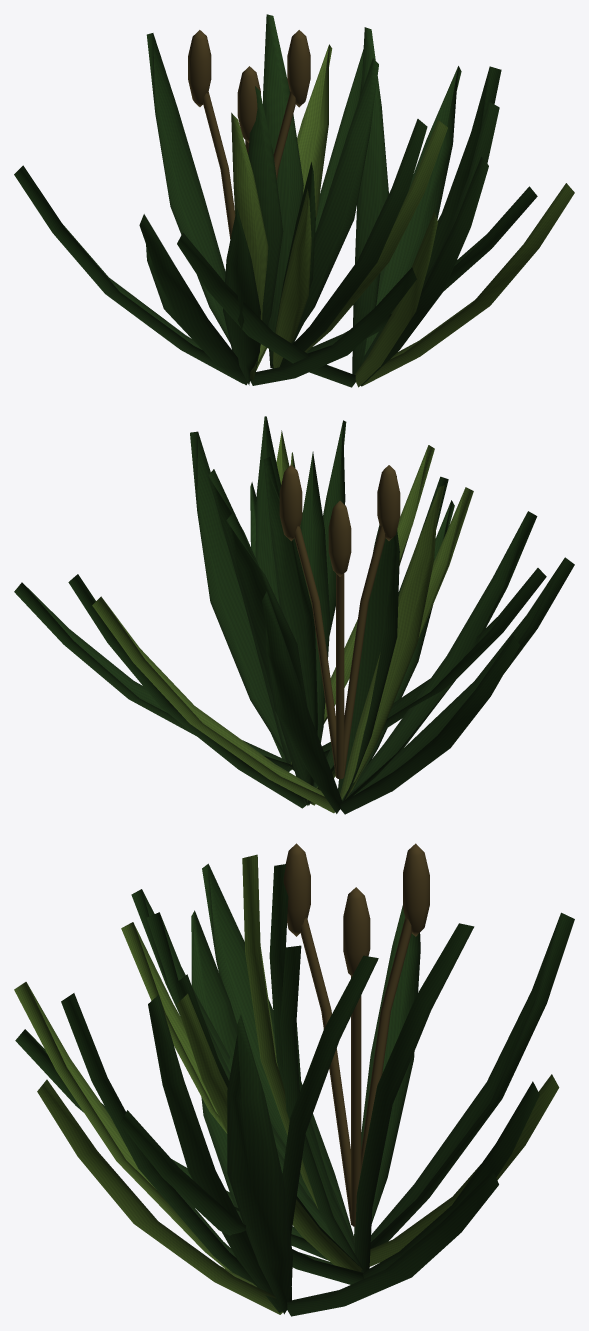
The model's file is grass_tuft_spring.glb.
3 views of the same model, one above another, from view 1: azimuth 30°, elevation 25°; view 2: azimuth 150°, elevation 25°; view 3: azimuth 270°, elevation 25° (orthographic). The views are drawn at different scales.
Visible parts, largest first — view 1: grass_tuft_spring; view 2: grass_tuft_spring; view 3: grass_tuft_spring.
Part boxes in pixels (x1,y1,x2,y2): grass_tuft_spring: [14, 14, 574, 387]; grass_tuft_spring: [14, 416, 574, 814]; grass_tuft_spring: [14, 843, 574, 1316].
Size of the model in its own units: 1.55 by 1.05 by 1.3.
Materials: 3 (3 with a texture image).
